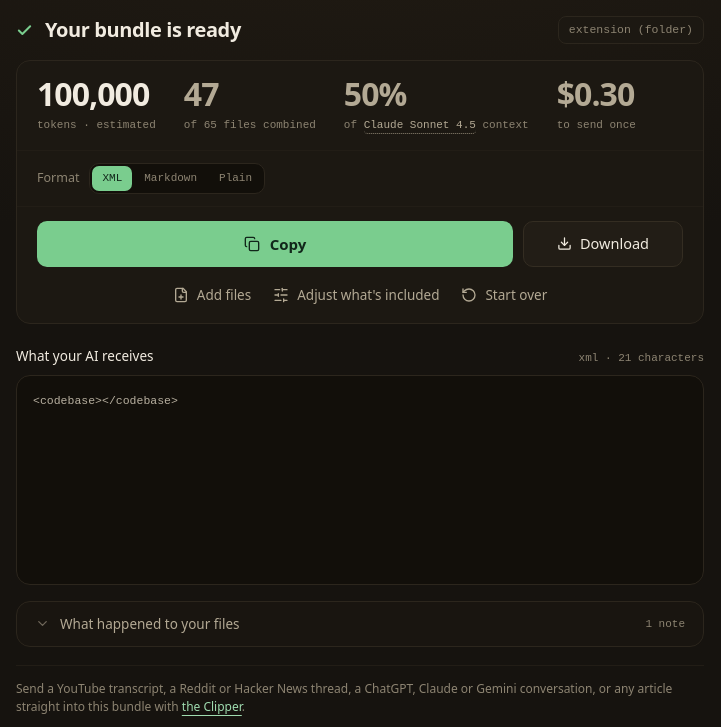
the door on the ledger › counts past three folders instead of listing them
Click the button "What happened to your files 1 note" at (150, 624), box [17,602,703,646]
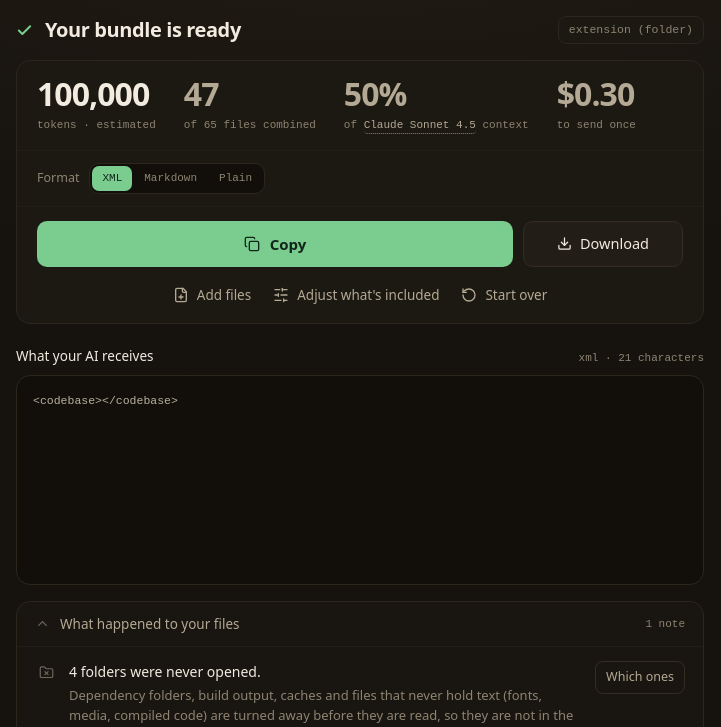
Result: the text "4 folders were never opened." is shown at [69,662,261,681]
